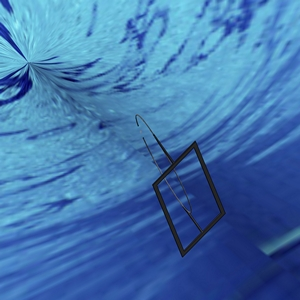circle: (132, 111, 226, 258)
